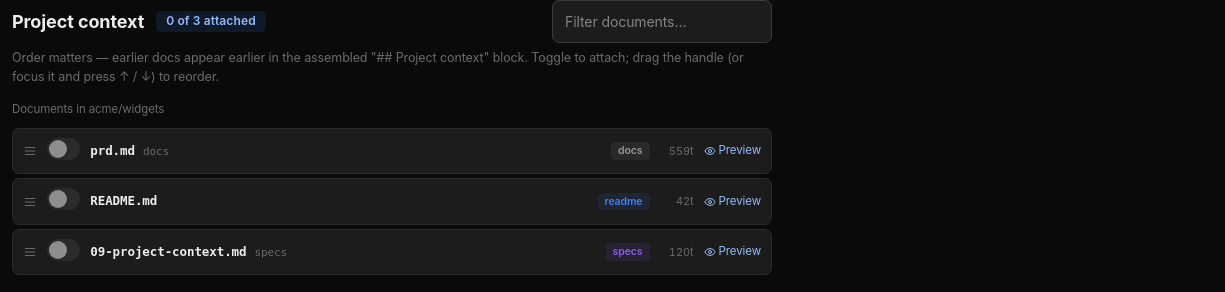
Test: ContextTab (agent editor) › preview panel › opens inline, on the same page, with the clicked row's full path and rendered content
Expected: the text "README.md" is shown, [90,192,157,211]
Click the button with aria-label "Preview docs/prd.md": (732, 151) [704,142,761,160]
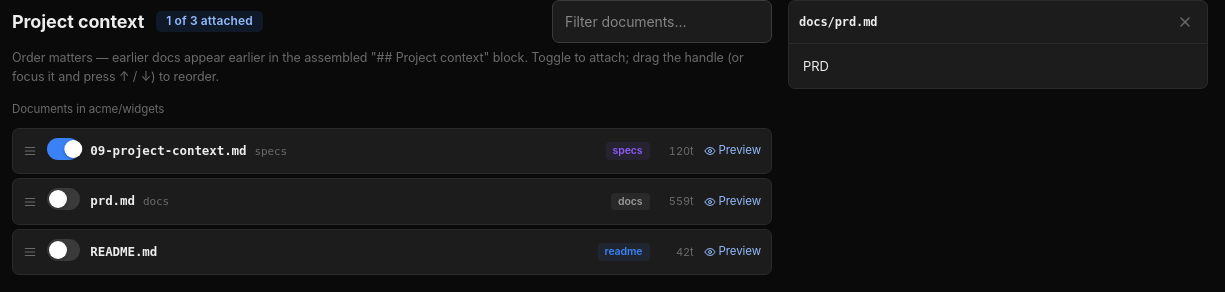
Expected: the text "README.md" is shown, [90,243,157,261]
Result: the element "docs/prd.md" is shown at [788,0,1208,89]
Result: the heading "PRD" is shown at [803,58,829,74]
